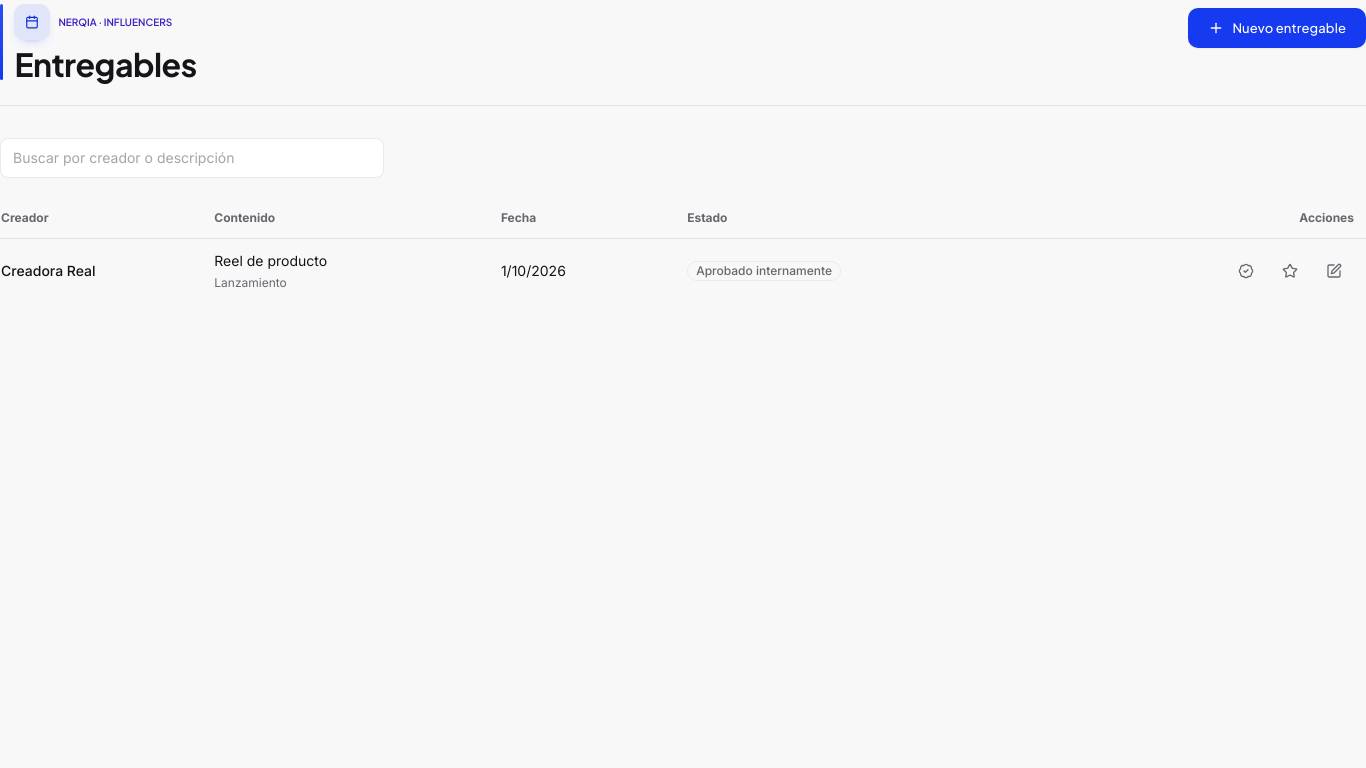
Test: reviews de creadores — reputación real › ofrece calificar un entregable completado
Click the button named "Calificar trabajo de Creadora Real".
click(1290, 271)  # box [1270,251,1310,291]
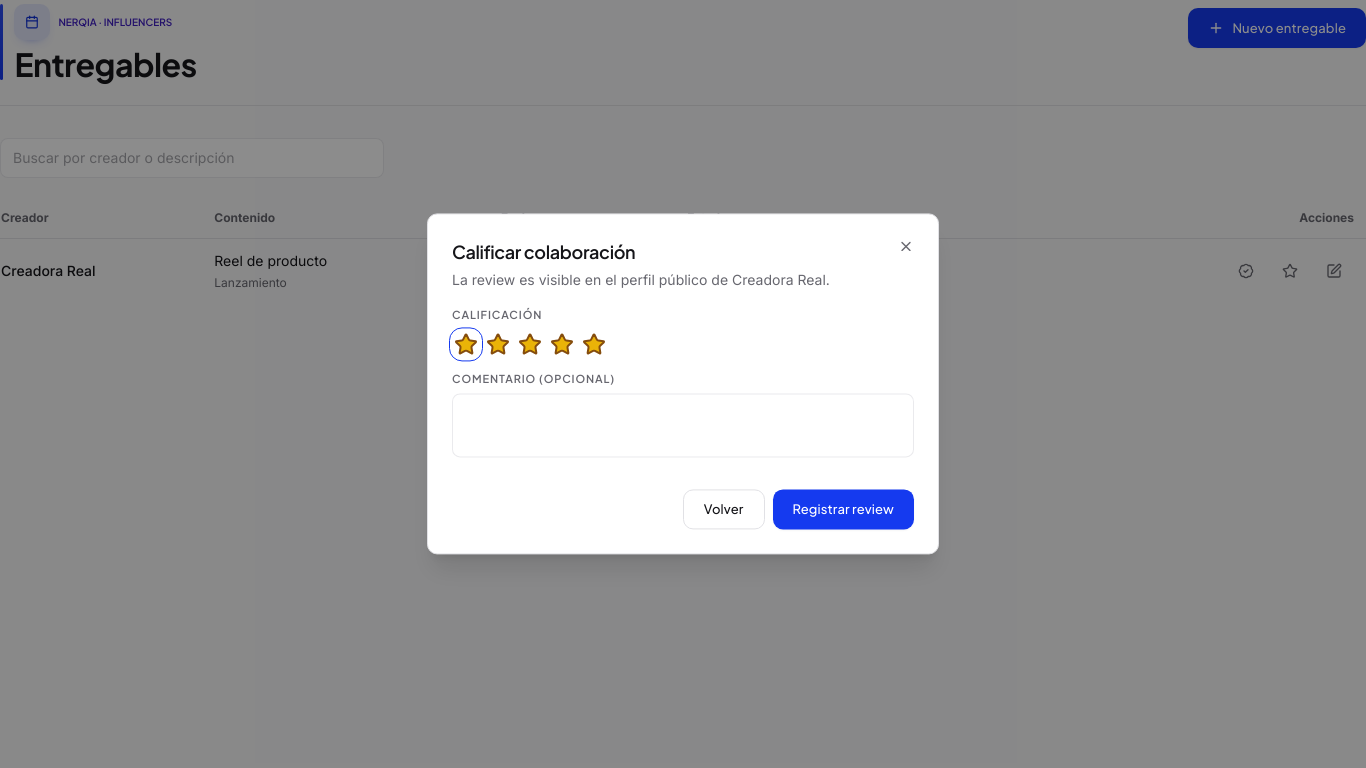
Expected: the dialog shows "Calificar colaboración", [452,240,635,263]
